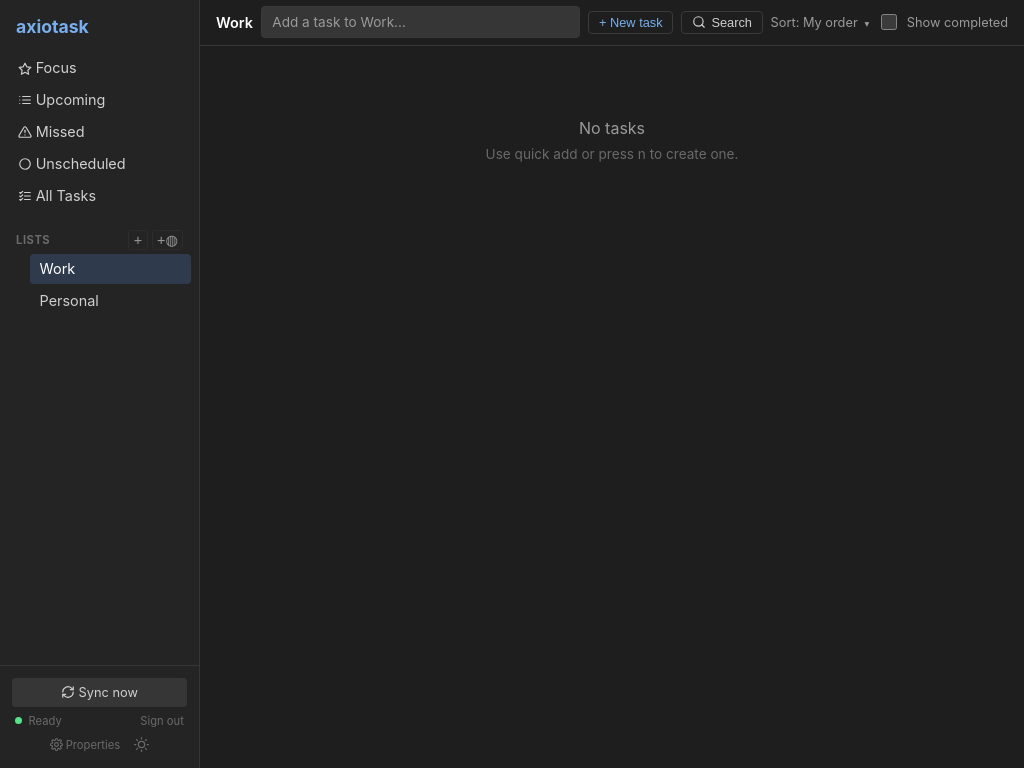
it: Quick-add input › renders the preview chip as a friendly relative date, never the raw ISO (#78b)
Type "Water plants today" into the field named "quick add task" at (421, 22), box top-left (261, 6), bottom-right (580, 38)
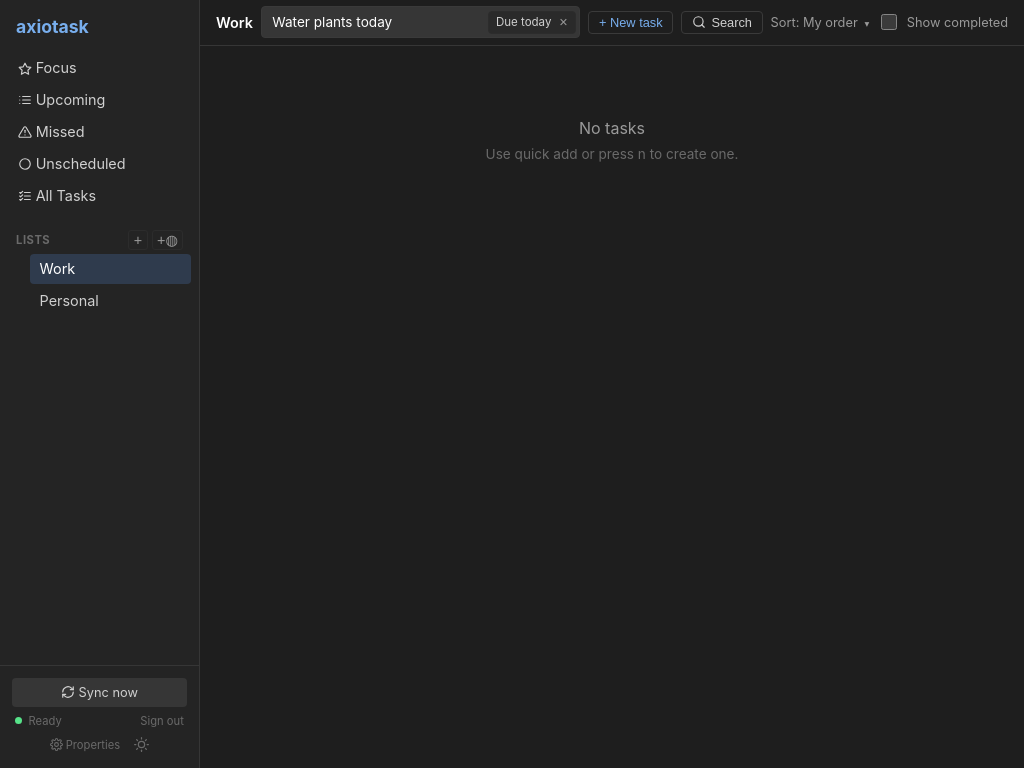
expect the message shows "Due today": met, box top-left (496, 15), bottom-right (551, 29)
